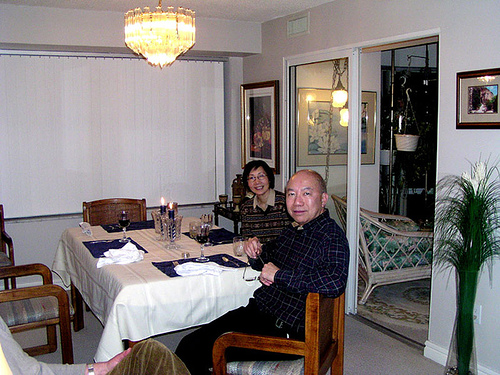without_mask: (283, 172, 329, 223), (239, 163, 277, 199)
